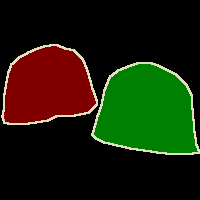hat: (92, 62, 199, 154), (2, 44, 97, 124)
